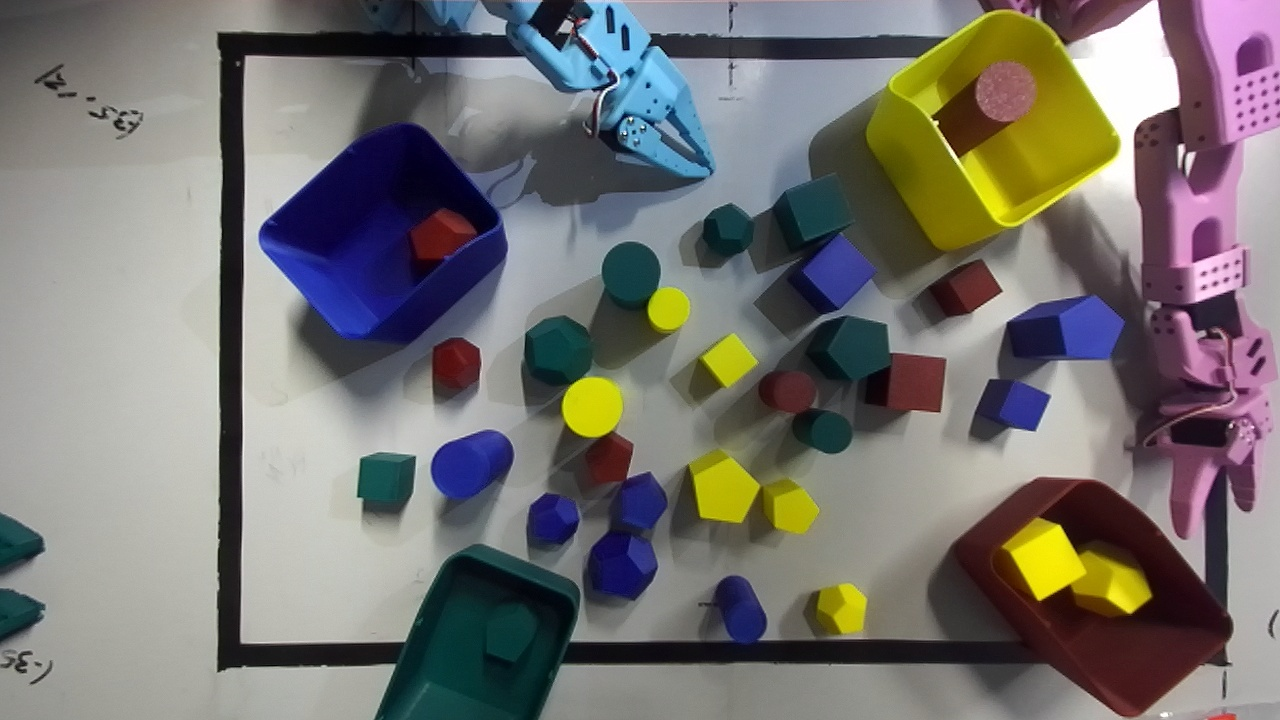bin: (953, 477, 1232, 715), (866, 10, 1119, 249), (259, 123, 507, 343), (375, 545, 579, 719)
cube: (993, 517, 1086, 600), (788, 235, 875, 313), (773, 173, 853, 250), (865, 353, 946, 412), (928, 259, 1001, 316), (975, 379, 1050, 430), (699, 333, 758, 386), (357, 452, 415, 505)
cylinder: (932, 61, 1036, 156), (431, 430, 513, 500), (601, 242, 660, 309), (712, 575, 766, 643), (561, 377, 622, 437), (791, 409, 852, 453), (758, 370, 816, 413), (646, 287, 689, 331)
dodecahedron: (1071, 541, 1151, 615), (587, 531, 657, 599), (525, 315, 592, 384), (408, 208, 476, 269), (527, 493, 579, 546), (432, 337, 480, 392), (703, 203, 753, 255), (816, 583, 866, 633)
hexagonal: (1007, 295, 1124, 359), (806, 316, 890, 380), (688, 449, 759, 522), (485, 603, 537, 664), (761, 478, 818, 533), (617, 472, 667, 529), (585, 431, 633, 483)
